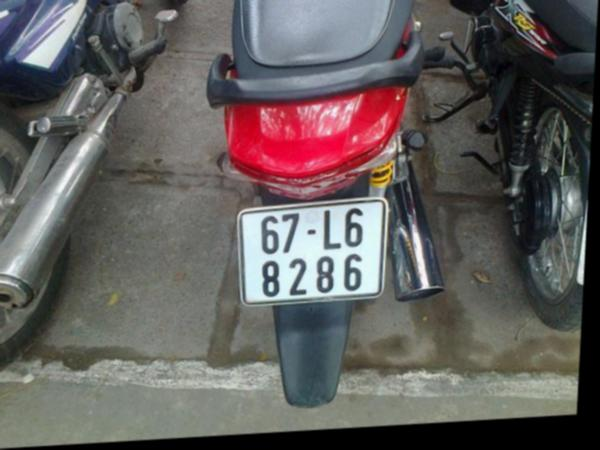License_Plate: (237, 204, 388, 308)
